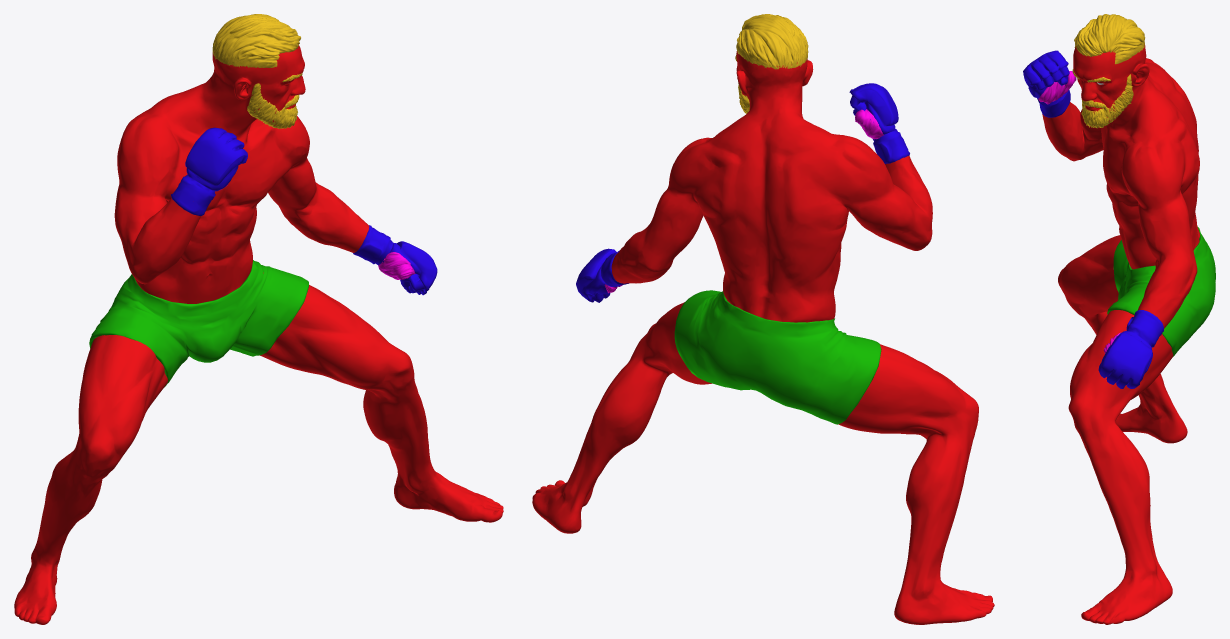
Rendered from SHORT HAIR .fbx.
3 views of the same model, side by side, from view 1: azimuth 30°, elevation 25°; view 2: azimuth 150°, elevation 25°; view 3: azimuth 270°, elevation 25° (orthographic). The views are drawn at different scales.
Visible parts, largest first — view 1: CONNOR MCGREGOR_LP, Shorts_LP, Conor_McGregor_Glove_R4, hair_LP, LEFT GLOVE_LP, beard_LP, TAPE LEFT_LP; view 2: CONNOR MCGREGOR_LP, Shorts_LP, hair_LP, Conor_McGregor_Glove_R4, LEFT GLOVE_LP; view 3: CONNOR MCGREGOR_LP, Shorts_LP, LEFT GLOVE_LP, hair_LP, Conor_McGregor_Glove_R4, beard_LP, TAPE RIGHT_LP.
Part boxes in pixels (left/top/right/bottom): CONNOR MCGREGOR_LP: left=14, top=44, right=503, bottom=624; Shorts_LP: left=89, top=260, right=308, bottom=387; Conor_McGregor_Glove_R4: left=171, top=127, right=247, bottom=215; hair_LP: left=212, top=14, right=300, bottom=67; LEFT GLOVE_LP: left=353, top=225, right=437, bottom=295; beard_LP: left=247, top=83, right=297, bottom=128; TAPE LEFT_LP: left=378, top=252, right=415, bottom=279; CONNOR MCGREGOR_LP: left=532, top=51, right=994, bottom=624; Shorts_LP: left=674, top=290, right=881, bottom=424; hair_LP: left=736, top=14, right=808, bottom=69; Conor_McGregor_Glove_R4: left=849, top=83, right=909, bottom=163; LEFT GLOVE_LP: left=576, top=248, right=628, bottom=302; CONNOR MCGREGOR_LP: left=1042, top=44, right=1199, bottom=624; Shorts_LP: left=1107, top=226, right=1215, bottom=356; LEFT GLOVE_LP: left=1098, top=310, right=1163, bottom=388; hair_LP: left=1074, top=14, right=1145, bottom=64; Conor_McGregor_Glove_R4: left=1023, top=50, right=1070, bottom=117; beard_LP: left=1081, top=74, right=1133, bottom=128; TAPE RIGHT_LP: left=1038, top=71, right=1076, bottom=104.
Bounding box in the file's own units: 111 × 125 × 43.2.
